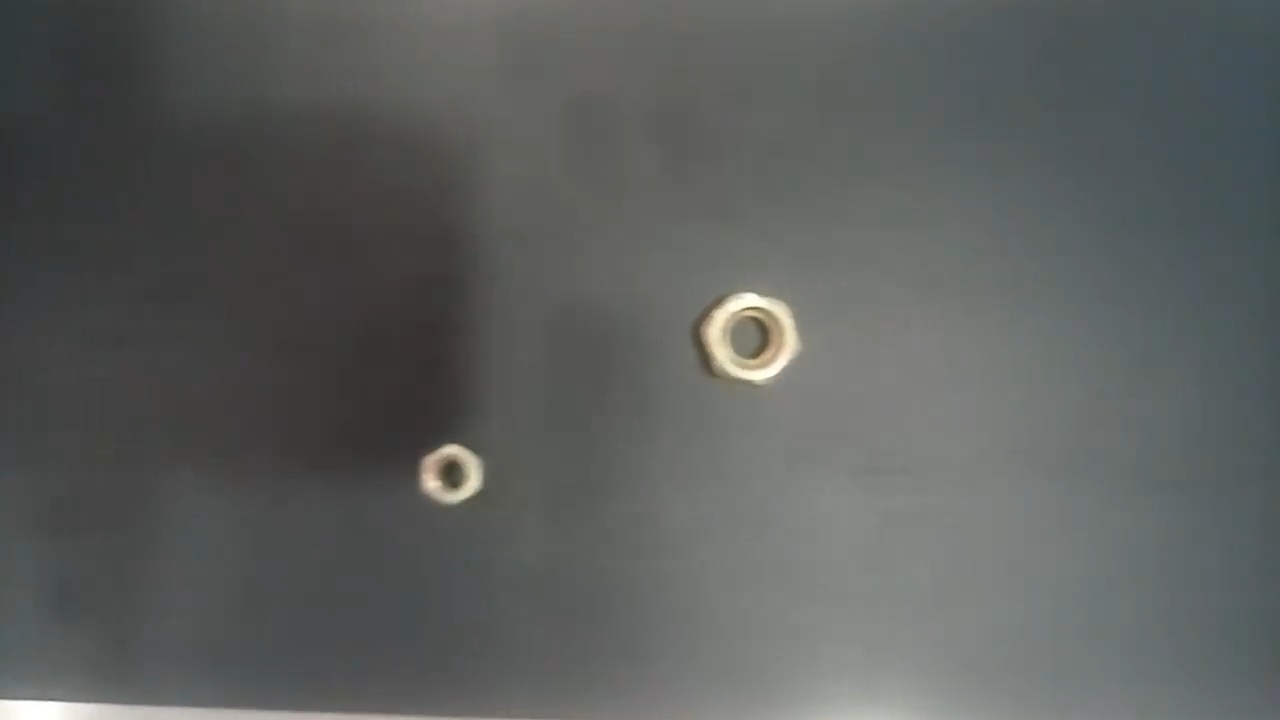Bolt: (696, 291, 801, 384), (417, 442, 487, 508)
